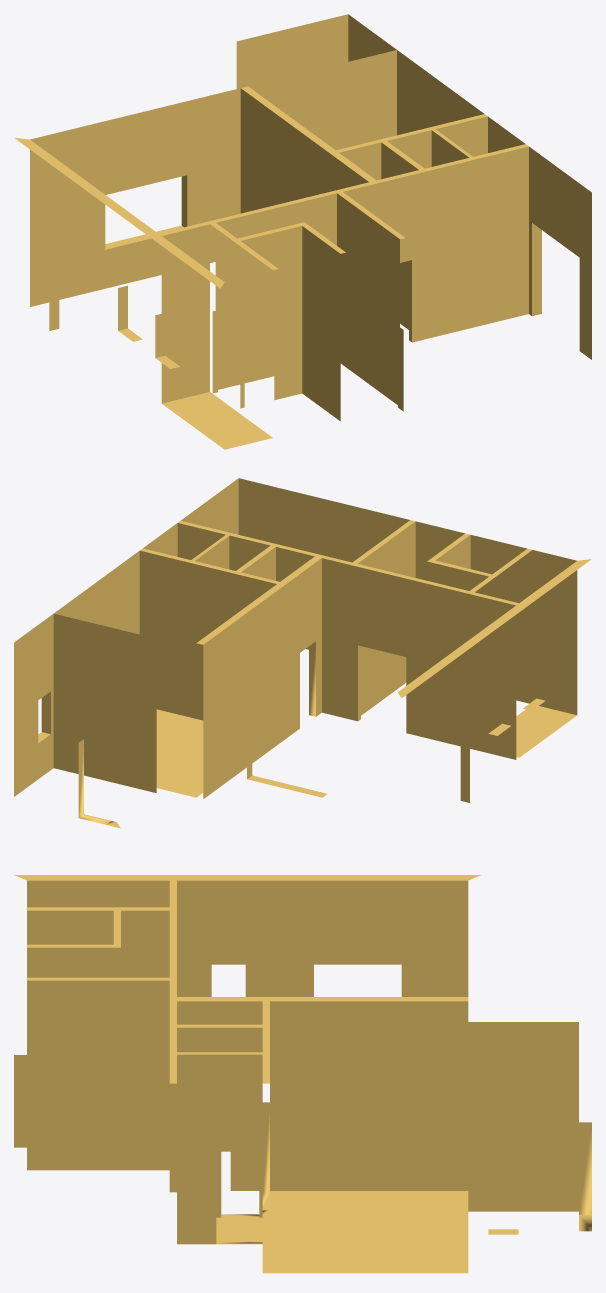
The model's file is INTERNO.glb.
3 views of the same model, one above another, from view 1: azimuth 30°, elevation 25°; view 2: azimuth 150°, elevation 25°; view 3: azimuth 270°, elevation 25° (orthographic). The views are drawn at different scales.
Visible parts, largest first — view 1: solo interno-Mat.304; view 2: solo interno-Mat.304; view 3: solo interno-Mat.304.
Boxes of the visible parts, x1,y1,x2,y2 form: solo interno-Mat.304: [14, 14, 591, 449]; solo interno-Mat.304: [14, 478, 591, 828]; solo interno-Mat.304: [14, 875, 591, 1273].
Bounding box in the file's own units: 107 × 44.05 × 122.
